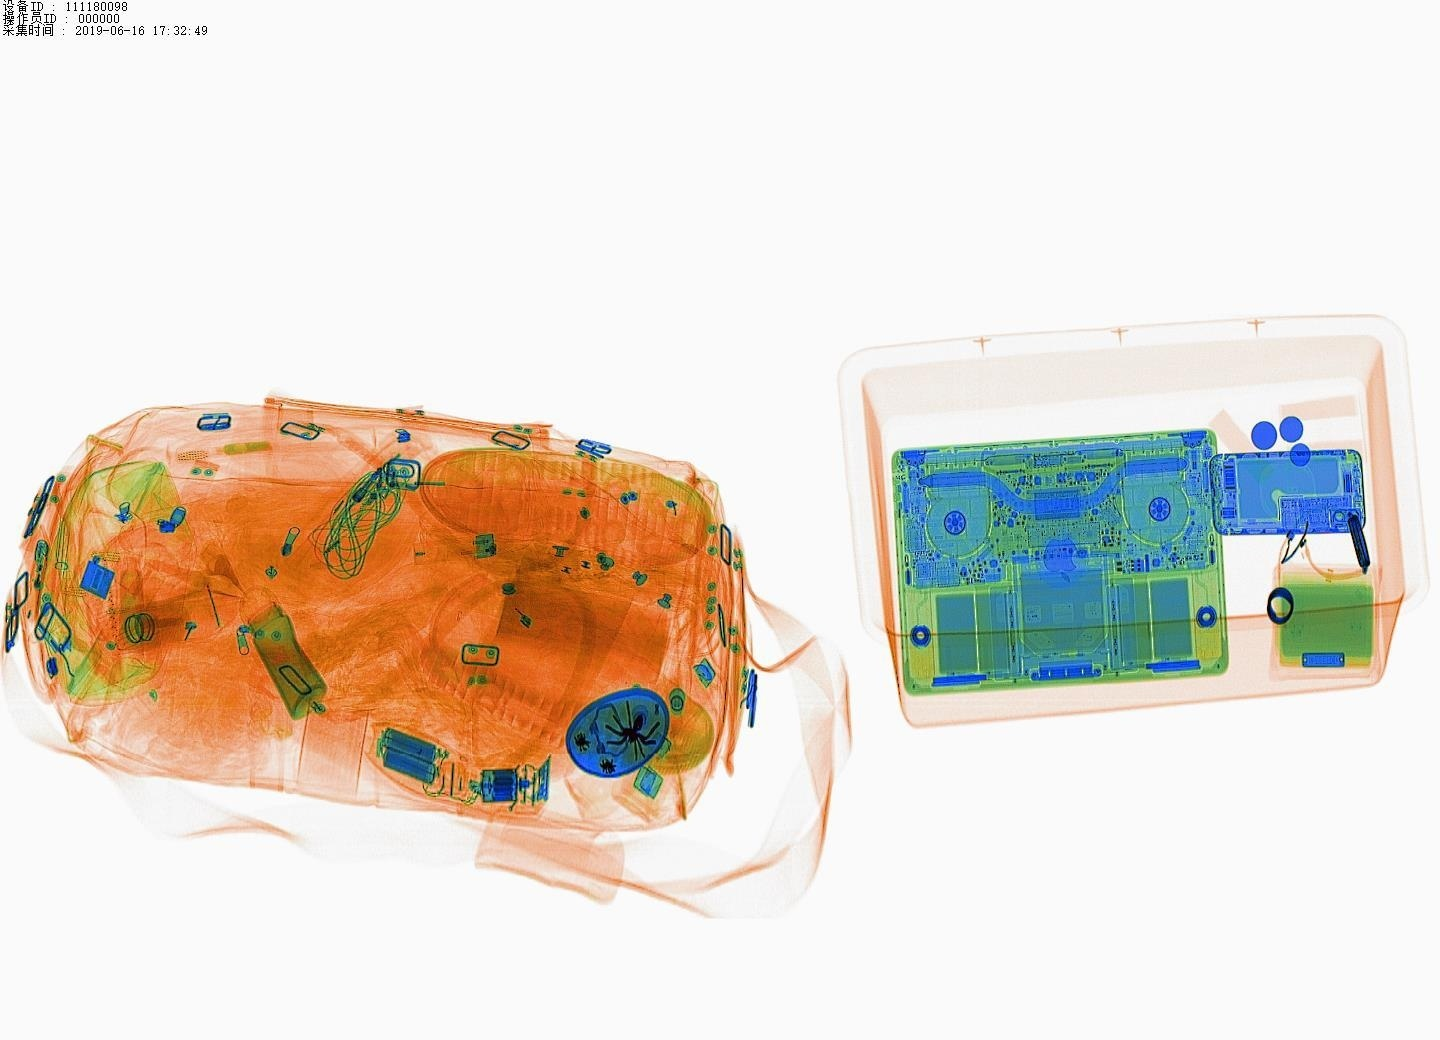NonmetallicFire: (405, 521, 510, 580), (23, 528, 66, 628)
